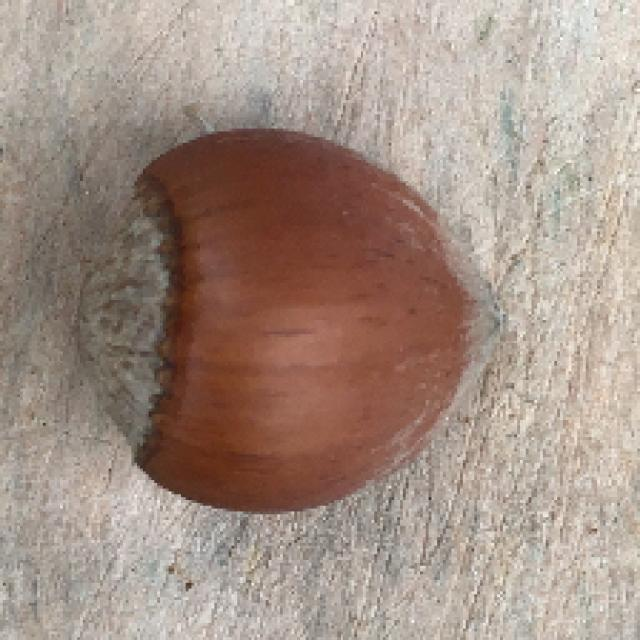QualityHazelnut: (79, 127, 514, 516)
